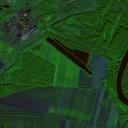alloviz: (43, 35, 95, 77)
